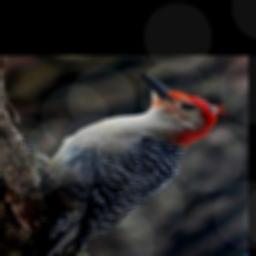Woodpecker: (18, 73, 228, 256)
